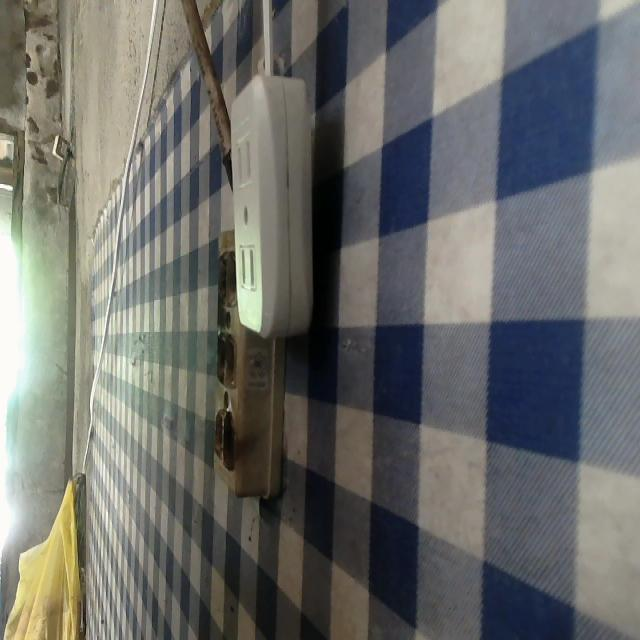-: (207, 400, 239, 469), (214, 252, 241, 317), (211, 328, 239, 387)
